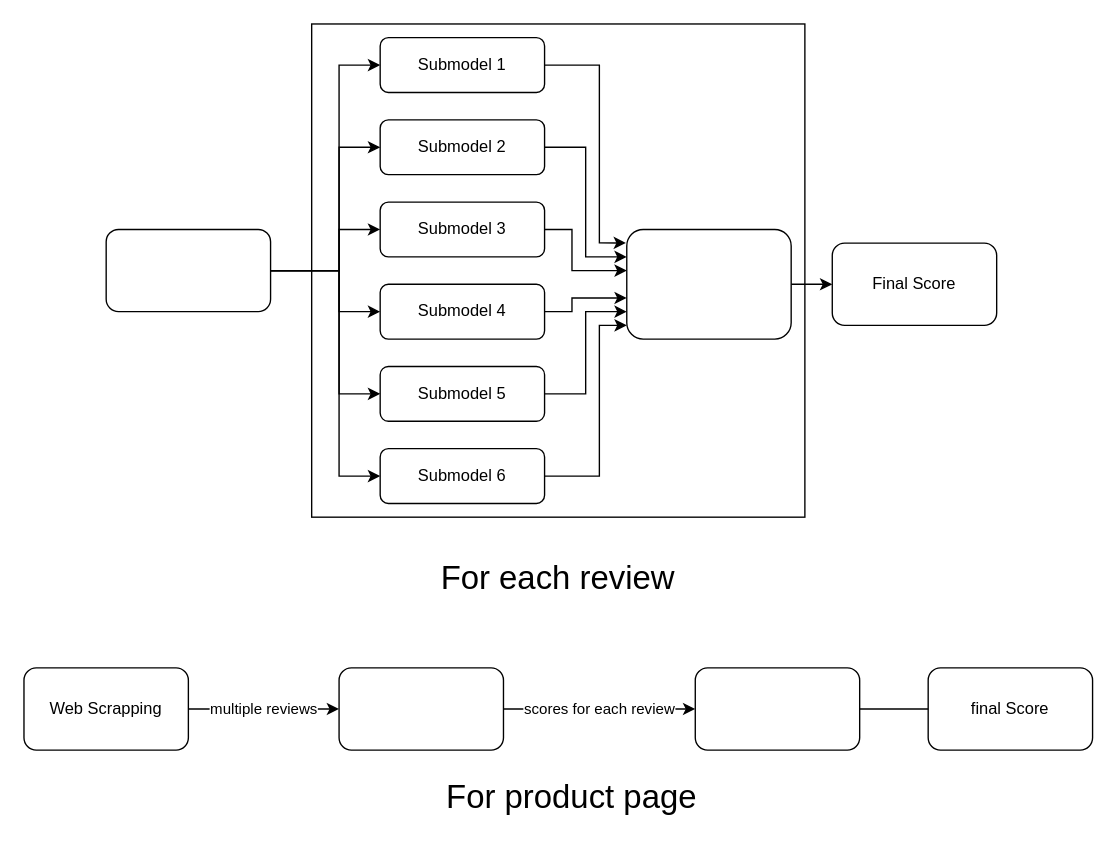
The diagram is 1117 pixels wide and 843 high, and some of its shapes have lost their labels. The shapes that lost their labels are listed below. From the top down, each one's centre as x and y in pixels, then its label:
(x=188, y=270): Review
(x=708, y=283): Average of all sub models
(x=420, y=708): Models
(x=777, y=708): Average score
